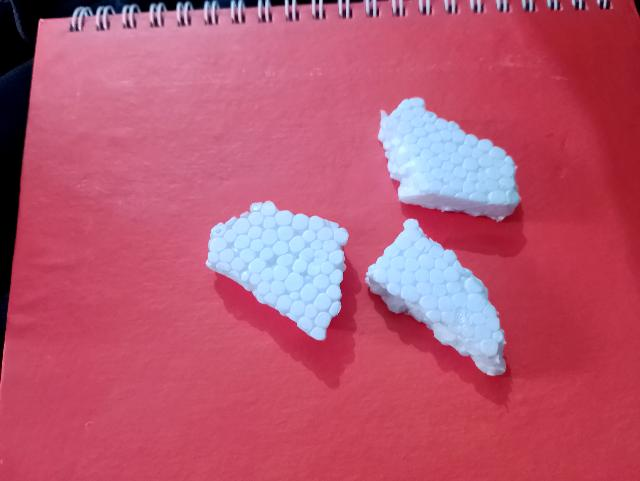cocksheet: (366, 238, 513, 373), (382, 89, 514, 222), (210, 202, 339, 332)
